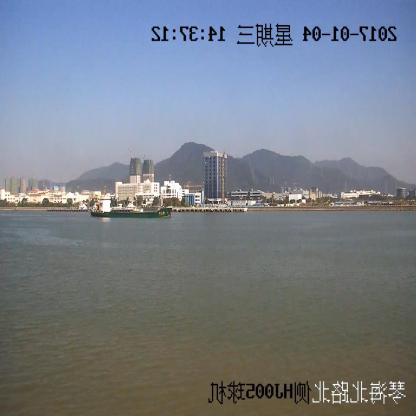Bulk Carrier: (90, 192, 172, 218)
